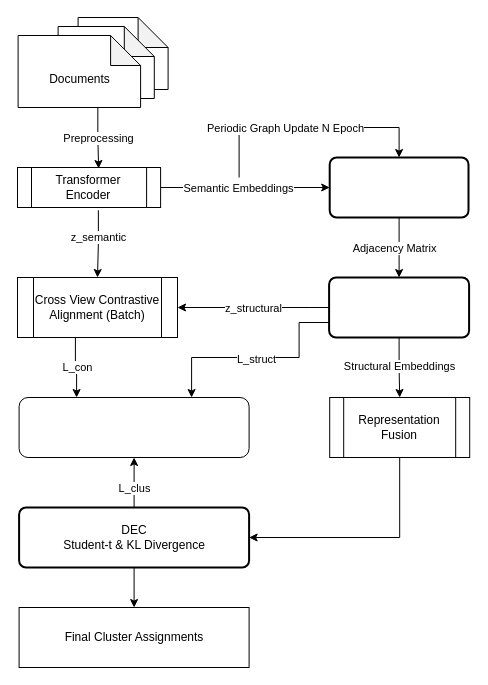
The diagram is 488 pixels wide and 685 high, and some of its shapes have lost their labels. Here are the shapes that lost their labels. From the top down, the centre of each, then its label:
At (x=398, y=187): "Dynamic KNN Construction".
At (x=399, y=307): "GCN".
At (x=133, y=427): "Total Loss = L_clus + L_struct + L_con Joint End-to-End Optimization".
